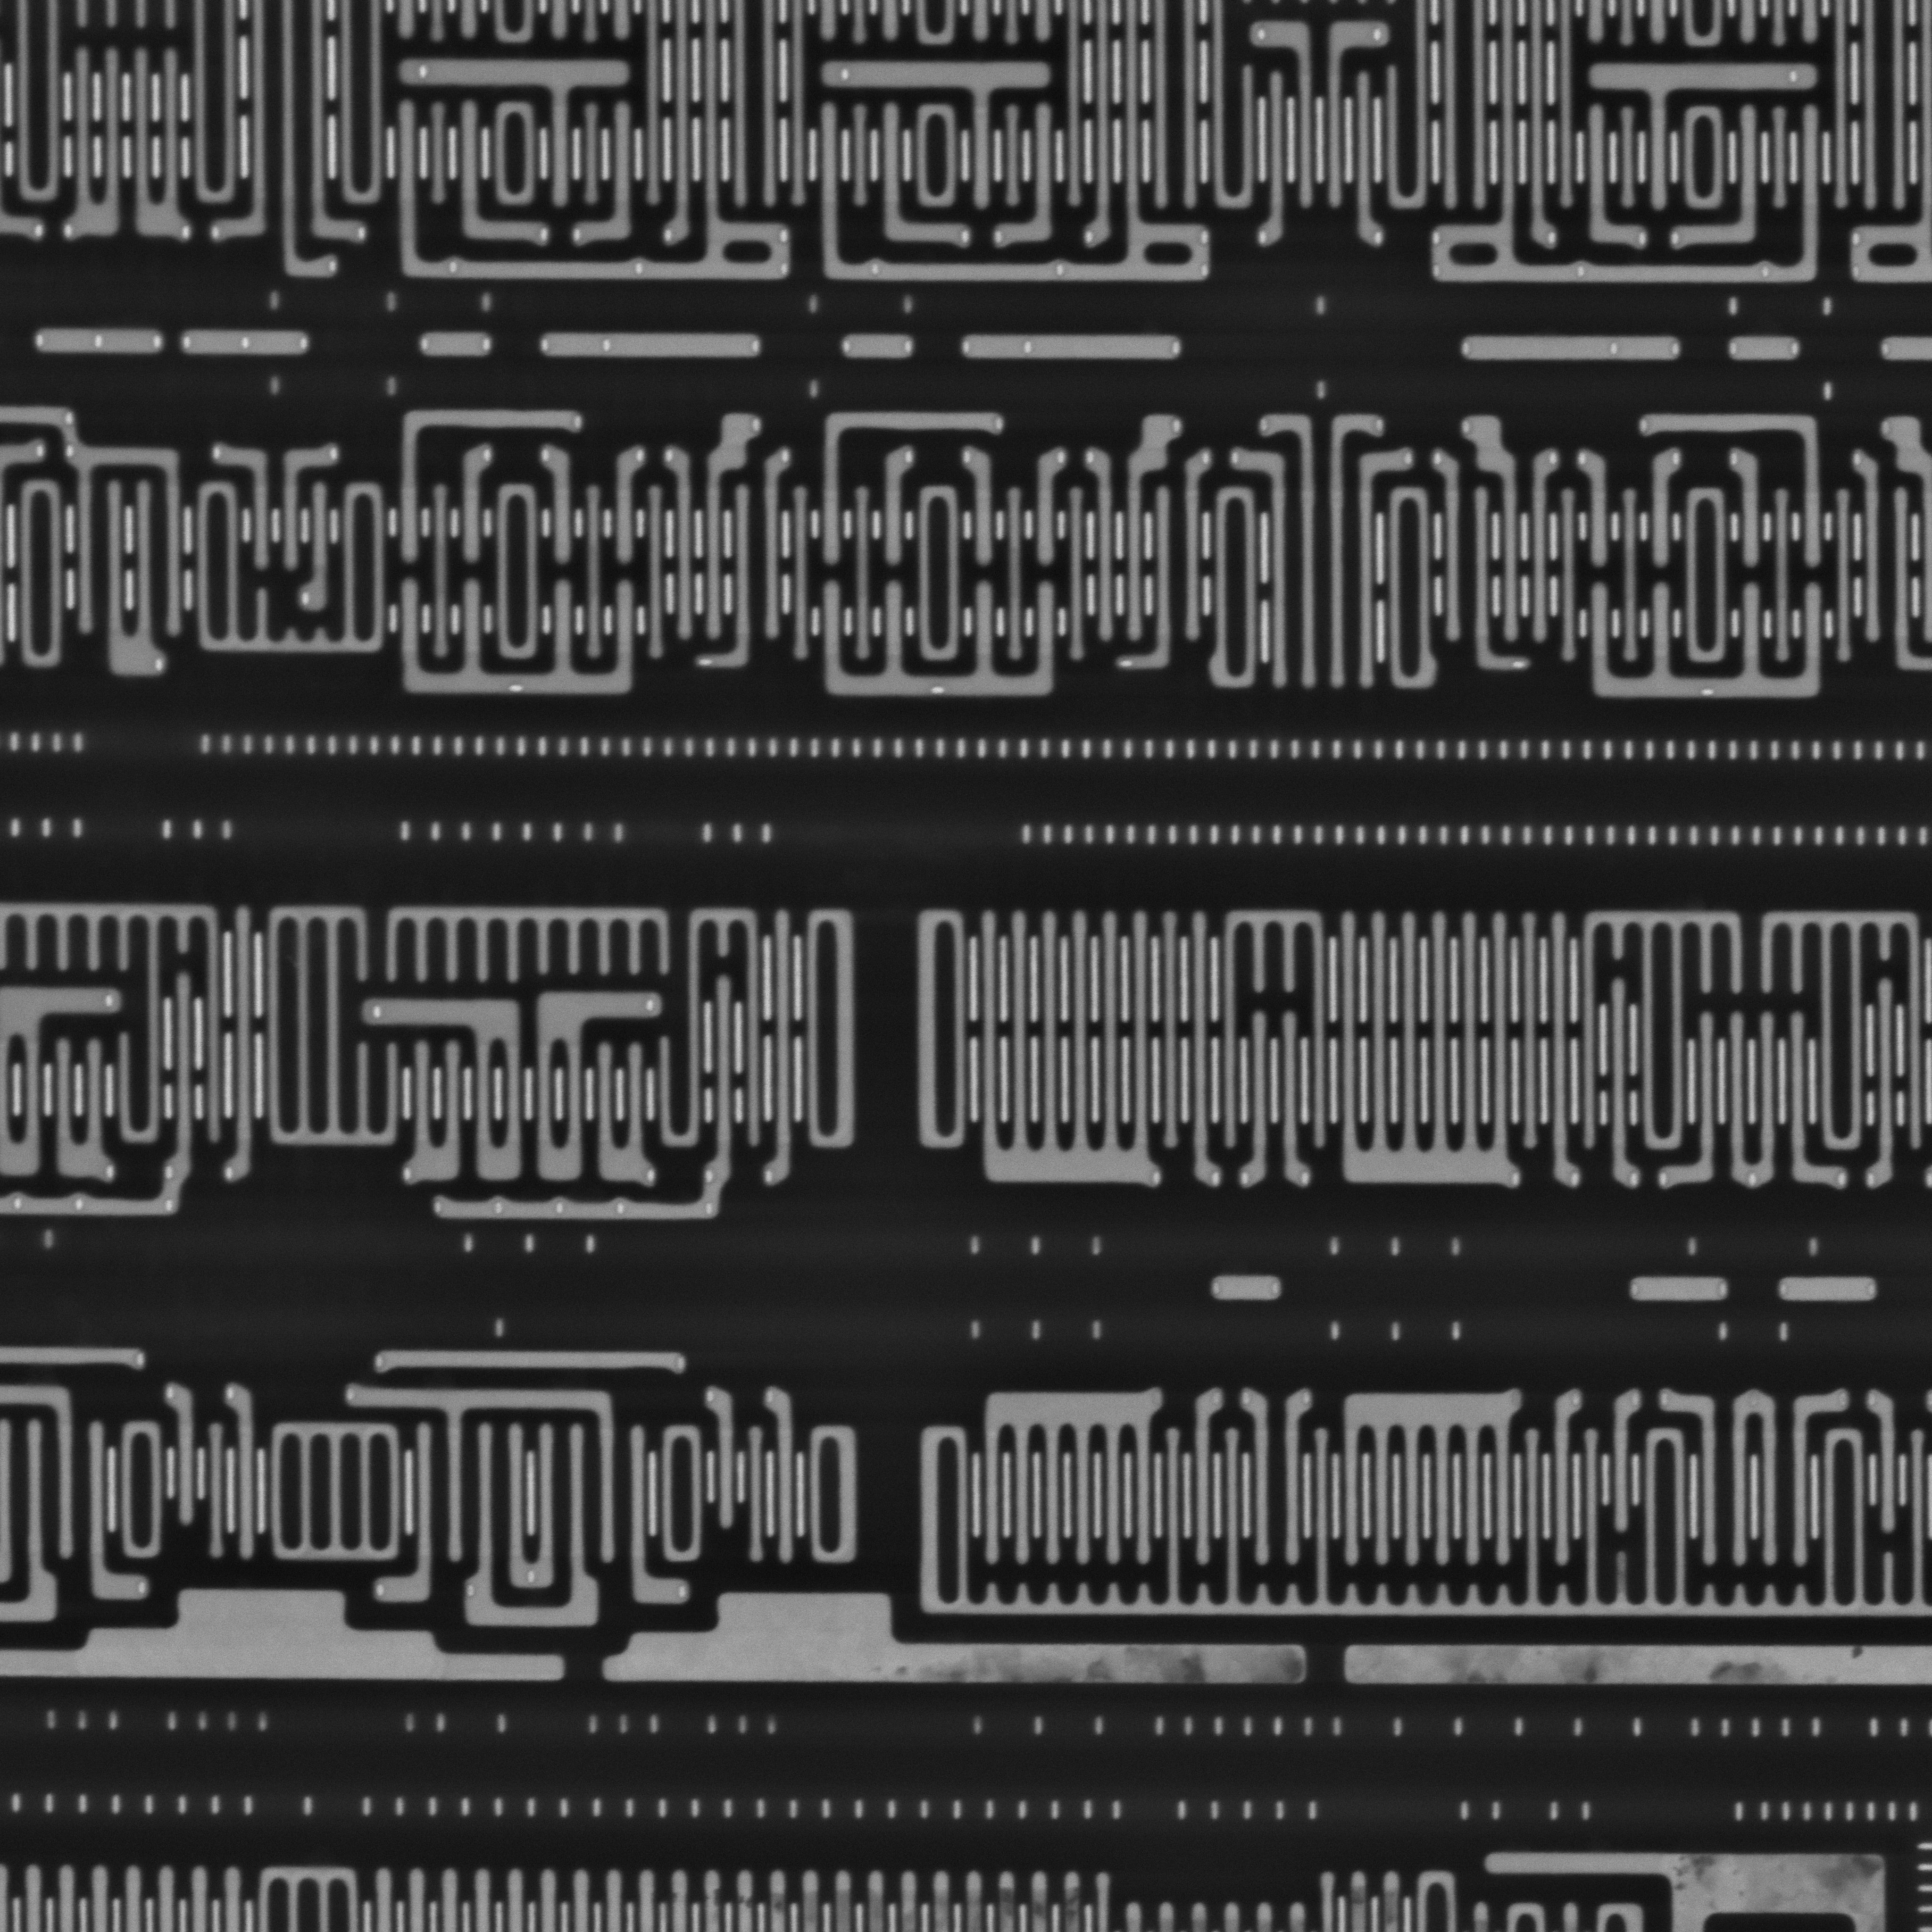circularDummy: (596, 1599, 1318, 1704)
doubleGate: (120, 42, 198, 244), (1714, 1012, 1789, 1210), (60, 46, 131, 248), (582, 1035, 662, 1192), (398, 1035, 474, 1184)
multiGate: (964, 906, 1166, 1200), (1327, 904, 1522, 1194), (966, 1369, 1166, 1569), (1330, 1382, 1523, 1571)
publicGate: (1238, 1384, 1315, 1562)
singleGate: (444, 96, 556, 255), (1113, 407, 1187, 642), (869, 99, 977, 253), (1672, 97, 1773, 253), (755, 909, 809, 1185), (1778, 1012, 1851, 1194), (221, 902, 267, 1189), (1661, 1010, 1730, 1194), (1573, 97, 1651, 248), (1596, 973, 1647, 1196), (994, 97, 1069, 248), (571, 97, 644, 249), (1516, 446, 1564, 649), (1863, 977, 1907, 1192), (209, 444, 283, 570), (662, 446, 709, 637), (226, 1373, 271, 1576), (1254, 71, 1300, 253), (1343, 69, 1389, 251), (1267, 1012, 1313, 1194), (763, 1387, 809, 1568), (1083, 449, 1127, 632), (1543, 1389, 1587, 1569), (161, 1371, 205, 1539), (701, 1387, 748, 1536), (1184, 1385, 1224, 1559), (1599, 1387, 1645, 1539), (1238, 1012, 1277, 1184), (1723, 449, 1773, 584), (1865, 1392, 1909, 1543), (536, 442, 589, 566), (297, 476, 341, 623), (449, 442, 497, 568), (600, 444, 648, 570), (1638, 441, 1684, 568), (1576, 448, 1621, 577), (961, 446, 1007, 568), (1023, 444, 1069, 566), (874, 446, 918, 571)
